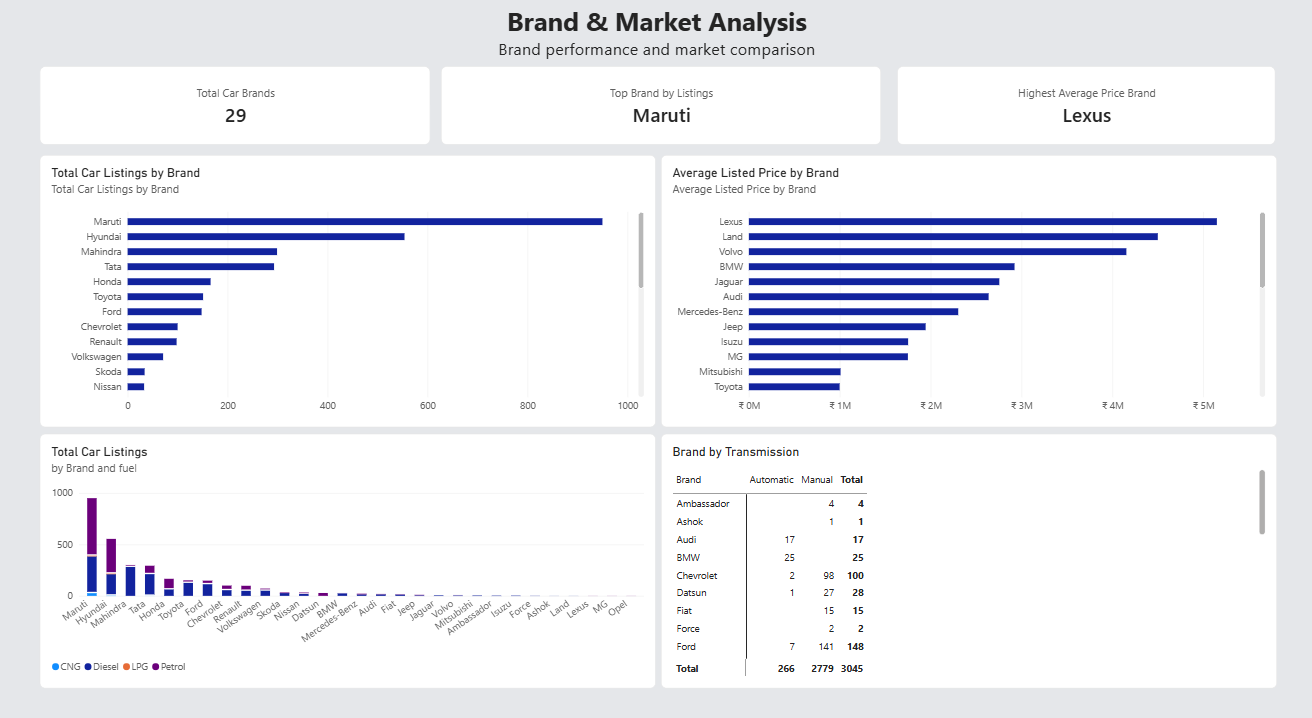

Layout of this report page (visuals, bound fields, positions):
{"tool":"powerbi","page":{"name":"Brand & Market Analysis","canvas":[1920,1080],"ordinal":1},"visuals":[{"type":"textbox","box":[63.3,12.7,1795.2,92.3],"z":0},{"type":"clusteredBarChart","title":"Total Car Listings by Brand","fields":{"Category":["car_sales_db car_sales.Brand"],"Y":["car_sales_db car_sales.Total Car Listings"]},"box":[64,232,896,396],"z":1000},{"type":"cardVisual","fields":{"Data":["car_sales_db car_sales.Total Car Brands"]},"box":[64,104,568,114],"z":2000},{"type":"cardVisual","fields":{"Data":["car_sales_db car_sales.Top Brand by Listings"]},"box":[648,104,640,114],"z":3000},{"type":"cardVisual","fields":{"Data":["car_sales_db car_sales.Highest Average Price Brand"]},"box":[1310,104,550,114],"z":4000},{"type":"clusteredBarChart","title":"Average Listed Price by Brand","fields":{"Category":["car_sales_db car_sales.Brand"],"Y":["car_sales_db car_sales.Average Listed Price"]},"box":[968,232,896,396],"z":5000},{"type":"columnChart","fields":{"Category":["car_sales_db car_sales.Brand"],"Series":["car_sales_db car_sales.fuel"],"Y":["car_sales_db car_sales.Total Car Listings"]},"box":[64,638,896,370],"z":6000},{"type":"pivotTable","title":"Brand by Transmission","fields":{"Columns":["car_sales_db car_sales.transmission"],"Rows":["car_sales_db car_sales.Brand"],"Values":["car_sales_db car_sales.Total Car Listings"]},"box":[968,638,896,370],"z":7000}]}

Visuals, with their boxes in screenshot pixels (x1, y1, x2, y2), scaled from the page's 1920x1080 canvas onto the 1312x718 screenshot:
textbox: <region>43, 8, 1270, 70</region>
"Total Car Listings by Brand" clusteredBarChart: <region>44, 154, 656, 418</region>
cardVisual - car_sales_db car_sales.Total Car Brands: <region>44, 69, 432, 145</region>
cardVisual - car_sales_db car_sales.Top Brand by Listings: <region>443, 69, 880, 145</region>
cardVisual - car_sales_db car_sales.Highest Average Price Brand: <region>895, 69, 1271, 145</region>
"Average Listed Price by Brand" clusteredBarChart: <region>661, 154, 1274, 418</region>
columnChart - car_sales_db car_sales.Brand x car_sales_db car_sales.fuel: <region>44, 424, 656, 670</region>
"Brand by Transmission" pivotTable: <region>661, 424, 1274, 670</region>
